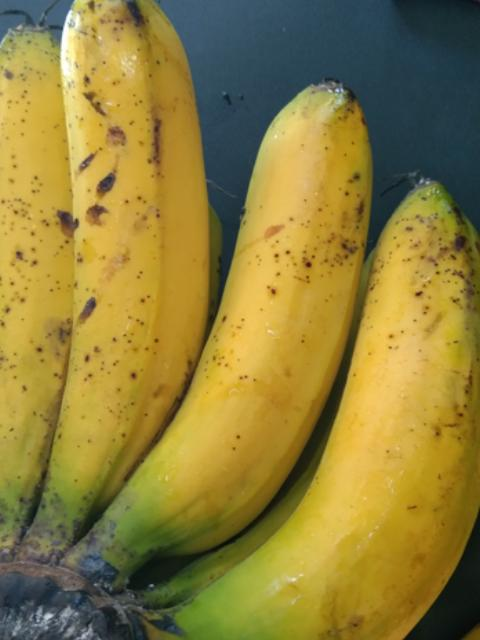ripe: (73, 74, 387, 551), (191, 191, 471, 639), (58, 7, 215, 545), (0, 32, 87, 550)
